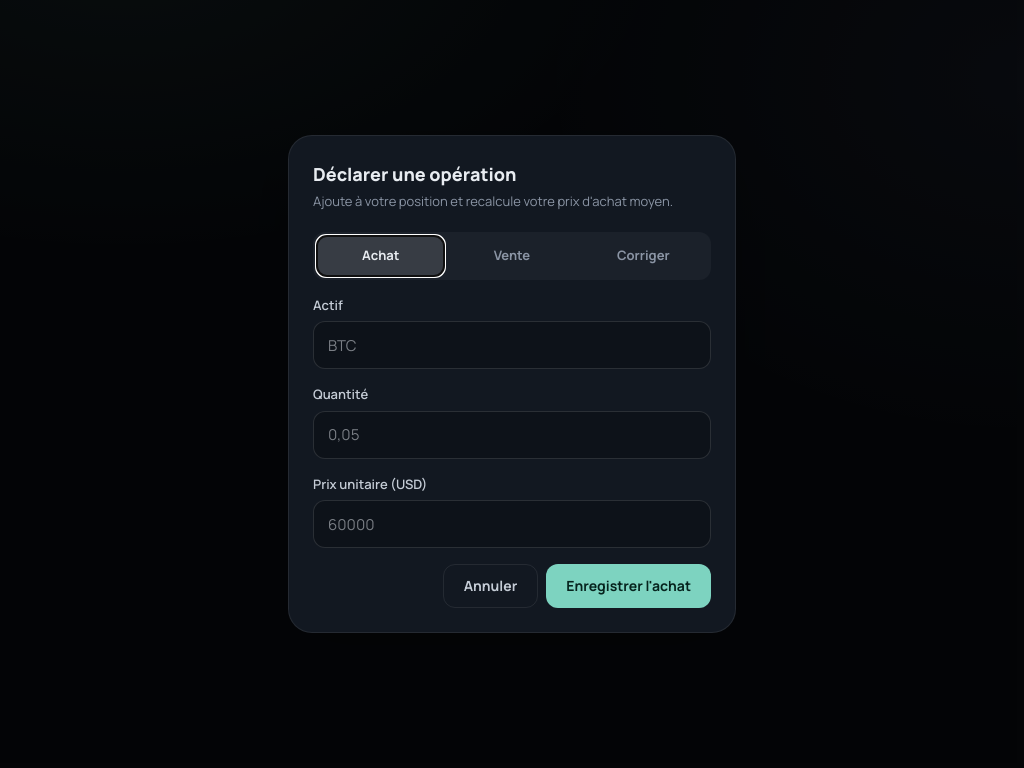
Test: PositionDialog : achat › envoie exactement ce que l'API attend (majuscules, point décimal, chaînes), annonce et ferme
The width and height of the screenshot is (1024, 768).
In the field labelled "Actif": point(512, 345) [313,321,711,369], type "btc"
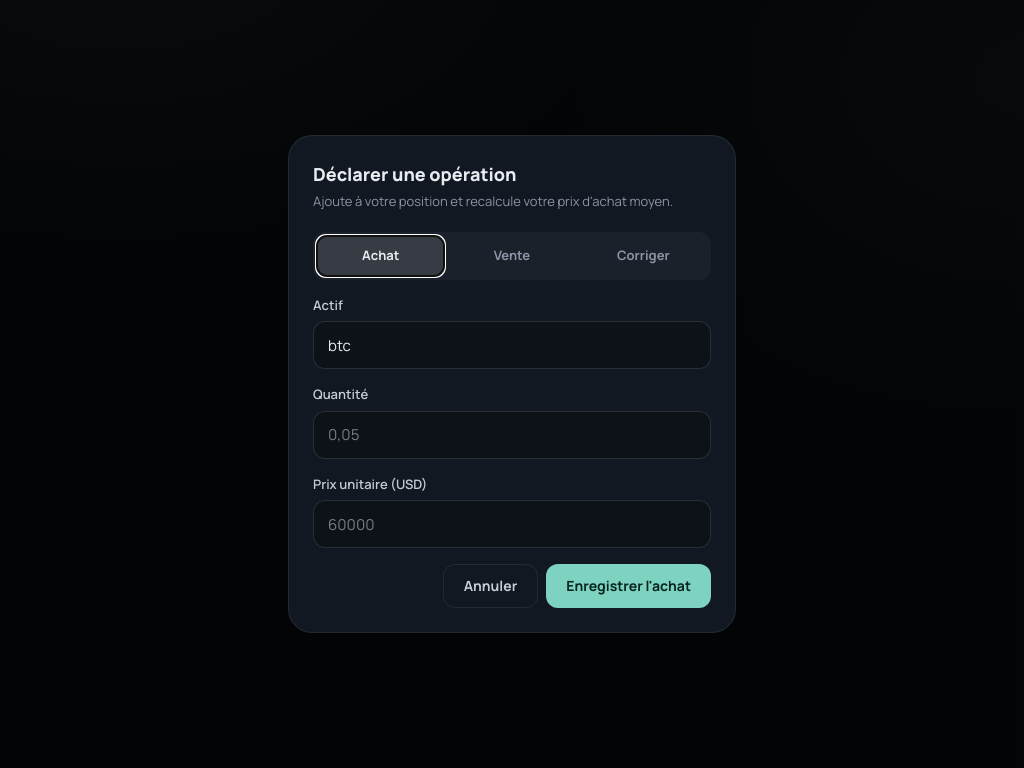
In the field labelled "Quantité": point(512, 434) [313,410,711,458], type "0,06"
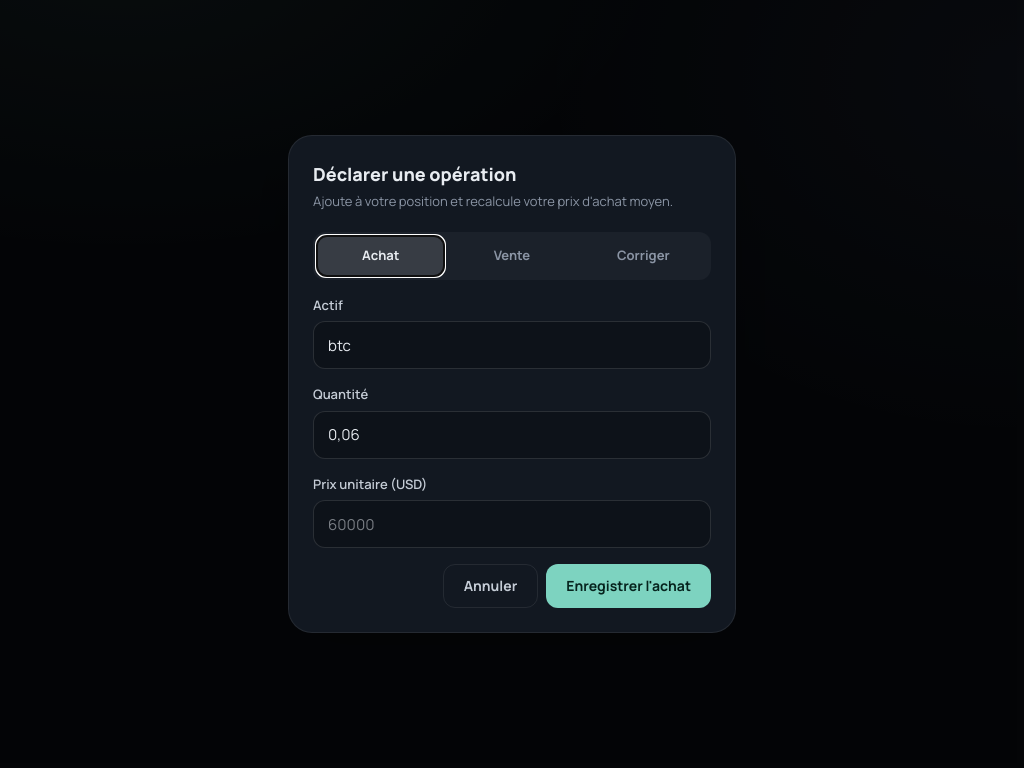
In the field labelled "Prix unitaire (USD)": point(512, 524) [313,500,711,548], type "62000"
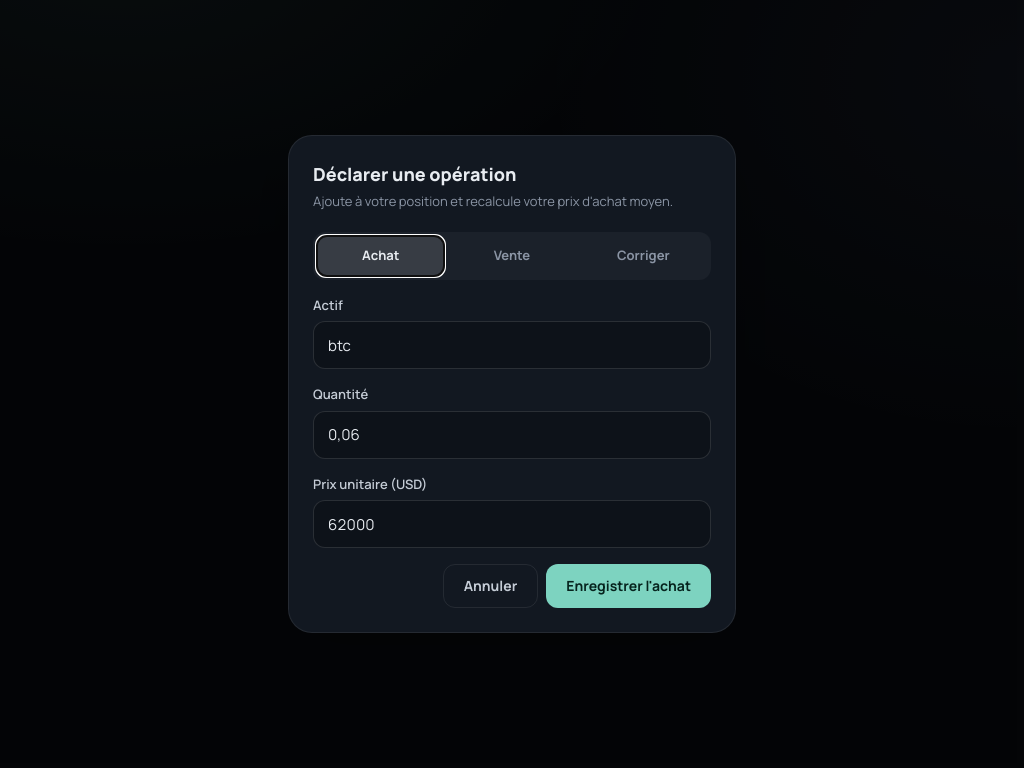
Click the button "Enregistrer l'achat": point(629, 586) [546,564,711,608]
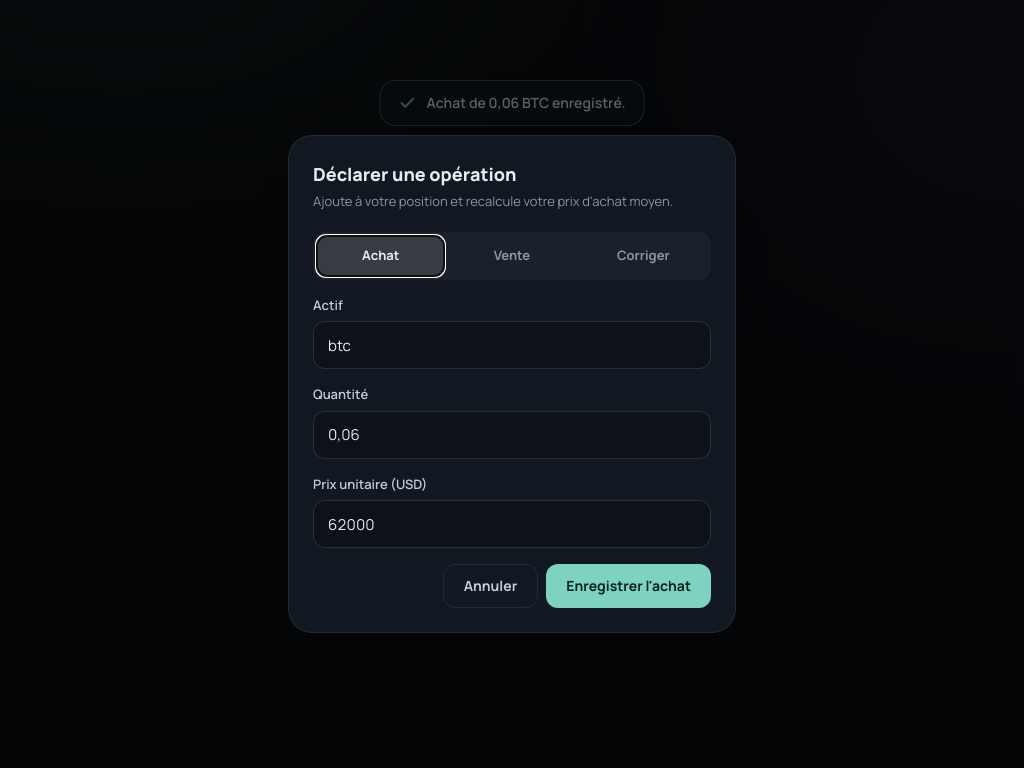
Expected: the text "Achat de 0,06 BTC enregistré." is shown, [379,80,644,126]
